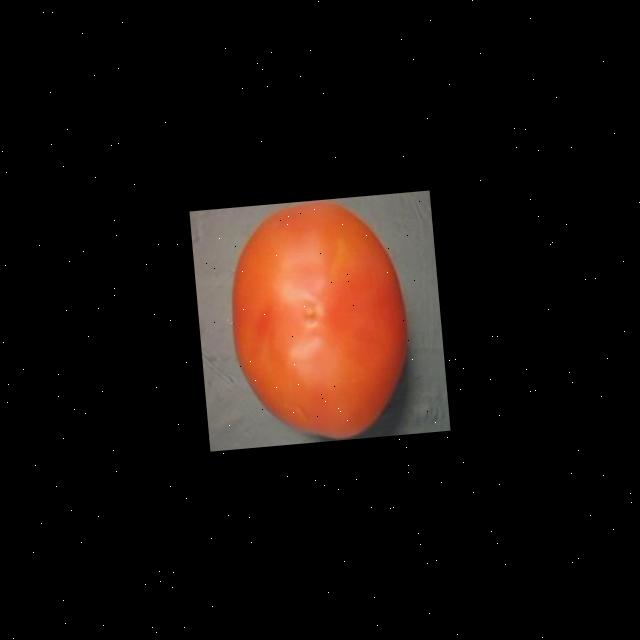tomato: (218, 192, 420, 447)
